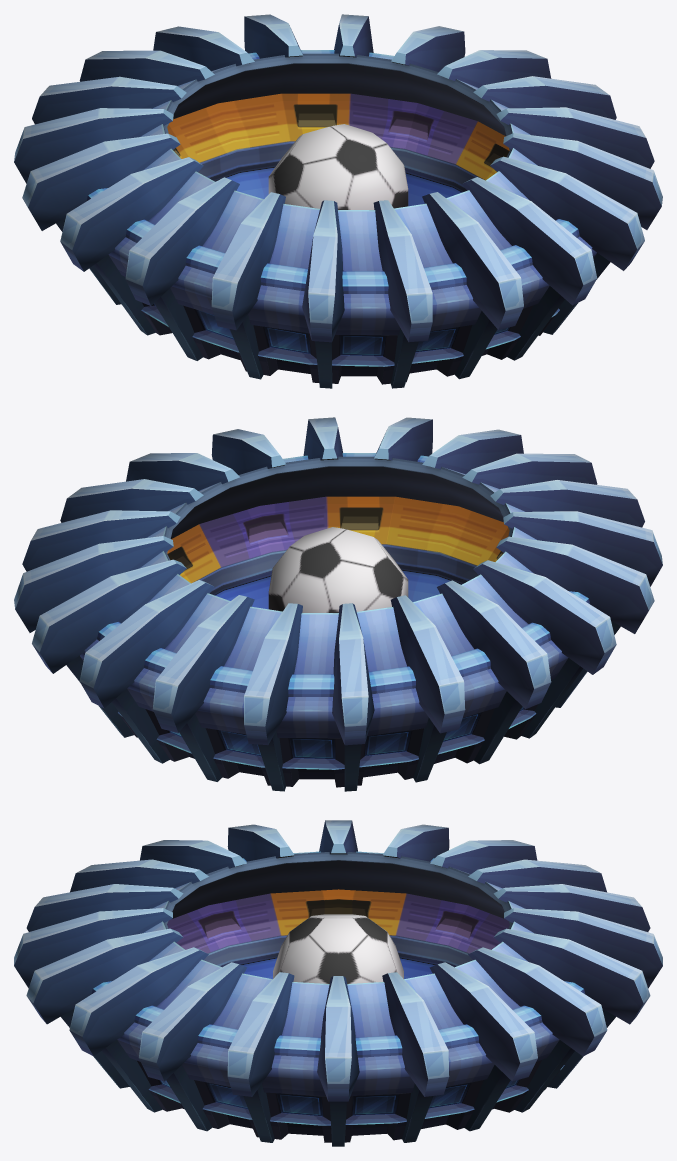
Rendered from Map01_Build10.FBX.
3 renders of one model, top to bottom at view 1: azimuth 30°, elevation 25°; view 2: azimuth 150°, elevation 25°; view 3: azimuth 270°, elevation 25°, orthographic. The views are drawn at different scales.
Visible parts, largest first — view 1: Map01_Build10, football; view 2: Map01_Build10, football; view 3: Map01_Build10, football.
Boxes of the visible parts, bbox=[...] form: Map01_Build10: bbox=[14, 14, 662, 388]; football: bbox=[268, 124, 408, 209]; Map01_Build10: bbox=[14, 417, 662, 791]; football: bbox=[268, 527, 408, 612]; Map01_Build10: bbox=[14, 820, 662, 1146]; football: bbox=[273, 914, 403, 983].
Size of the model in its own units: 1.79 by 0.512 by 2.01.
